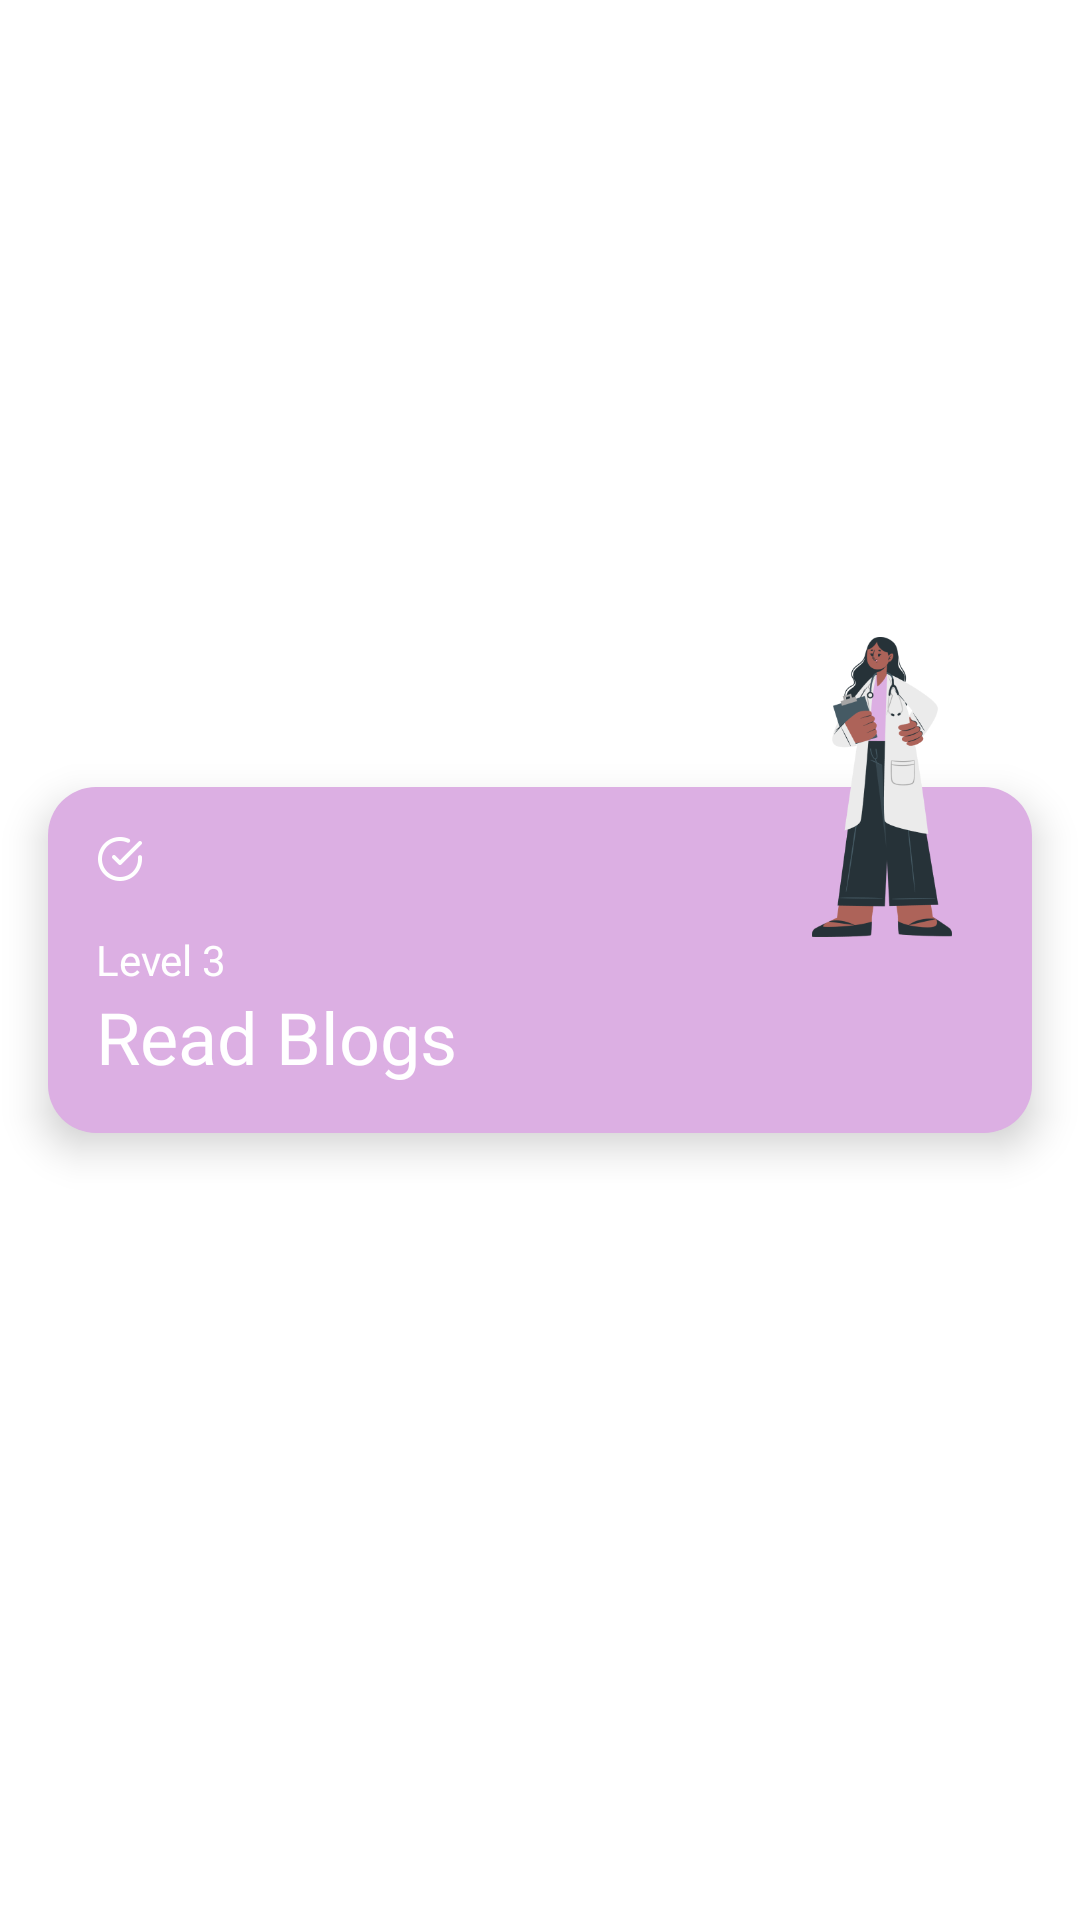

Where icons sit on this 1080×1920 app screen, as Rect(x1, y1, x2, y2):
check circle: Rect(98, 837, 142, 881)
doctor: Rect(732, 637, 1032, 937)
